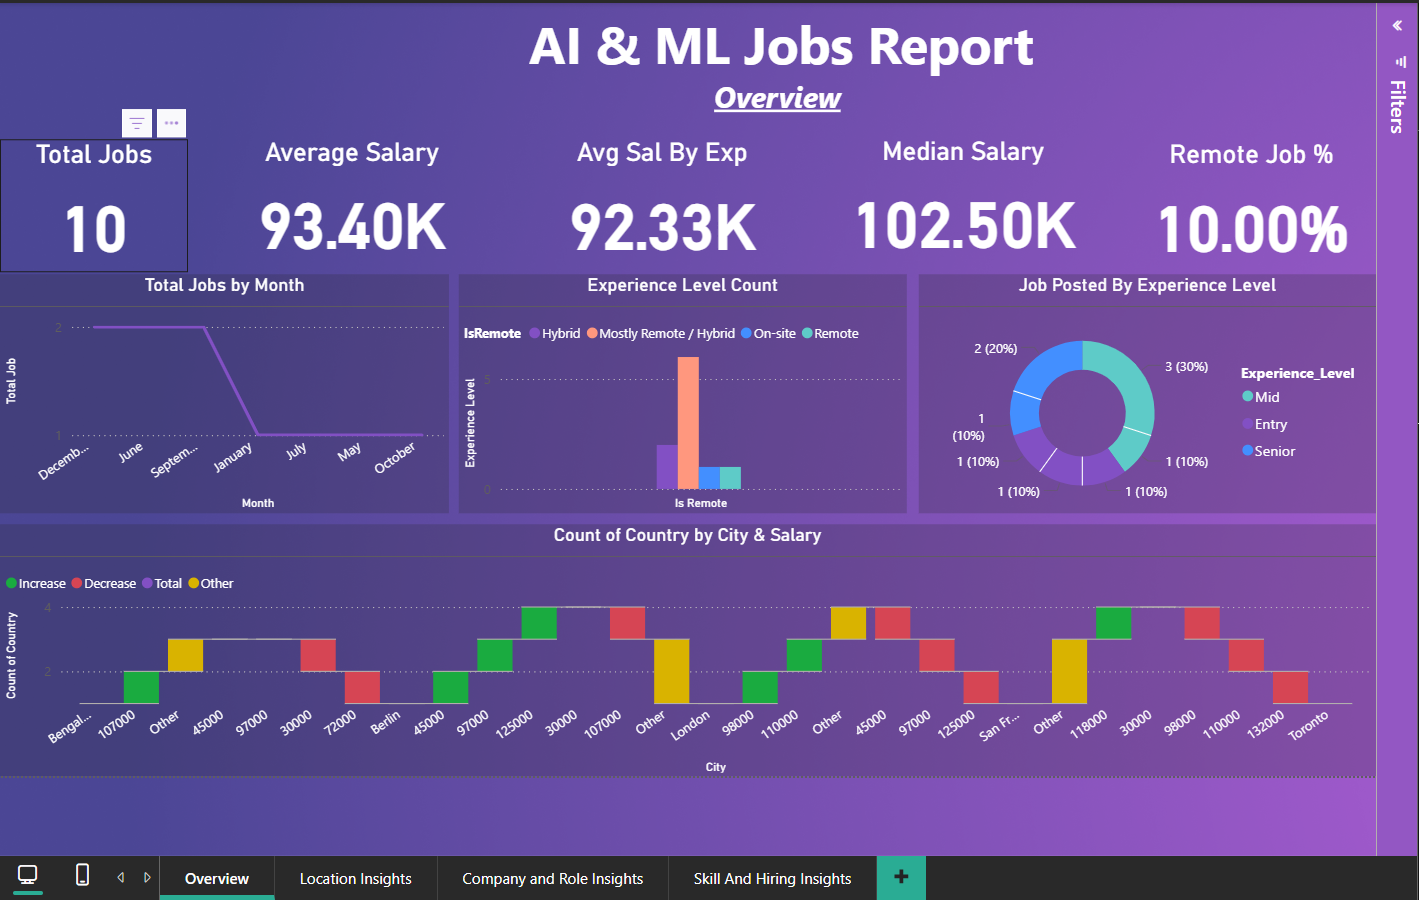

The dashboard page shown, as its layout file describes it:
{"tool":"powerbi","page":{"name":"Overview","canvas":[1280,720],"ordinal":0},"visuals":[{"type":"textbox","box":[487.3,0,480.7,89.1],"z":0},{"type":"card","title":"Total Jobs","fields":{"Values":["Fact_Jobs.TotalJobs"]},"box":[0,126.4,174.7,125.3],"z":1000},{"type":"card","title":"Average Salary","fields":{"Values":["Fact_Jobs.AvgSalary"]},"box":[227.9,124.4,199.1,124.4],"z":2000},{"type":"card","title":"Median Salary","fields":{"Values":["Fact_Jobs.MedianSalary"]},"box":[780.7,123.1,231.9,124.4],"z":3000},{"type":"card","title":"Remote Job %","fields":{"Values":["Fact_Jobs.RemoteJob%"]},"box":[1049.3,127.1,230.6,125.8],"z":4000},{"type":"card","title":"Avg Sal By Exp","fields":{"Values":["Fact_Jobs.AvgSalaryByExperience"]},"box":[504.3,124.4,222.7,125.8],"z":5000},{"type":"lineChart","title":"Total Jobs by Month","fields":{"Category":["Dim_Date.MonthName"],"Y":["Fact_Jobs.TotalJobs"]},"box":[0,252.8,417.9,222.7],"z":6000},{"type":"clusteredColumnChart","title":"Experience Level Count","fields":{"Series":["Fact_Jobs.IsRemote"],"Y":["CountNonNull(Fact_Jobs.Experience_Level)"]},"box":[427,252.8,416.6,222.7],"z":7000},{"type":"donutChart","title":"Job Posted By Experience Level","fields":{"Series":["Fact_Jobs.IsRemote"],"Category":["Fact_Jobs.Experience_Level"],"Y":["Fact_Jobs.TotalJobs"]},"box":[854.1,252.8,425.7,222.7],"z":8000},{"type":"waterfallChart","title":"Count of Country by City & Salary","fields":{"Category":["Dim_Locations.City"],"Breakdown":["Fact_Jobs.Salary_USD"],"Y":["CountNonNull(Dim_Locations.Country)"]},"box":[0,484.7,1279.8,235.8],"z":9000},{"type":"textbox","box":[658.9,64.2,137.5,48.5],"z":10000}]}

Visuals, with their boxes on the page's 1280x720 design canvas (x1, y1, x2, y2). These are canvas units, not pixel positions in the 1419x900 screenshot, which may show the page scaled, cropped or inside an application window:
textbox: <region>487, 0, 968, 89</region>
"Total Jobs" card: <region>0, 126, 175, 252</region>
"Average Salary" card: <region>228, 124, 427, 249</region>
"Median Salary" card: <region>781, 123, 1013, 248</region>
"Remote Job %" card: <region>1049, 127, 1280, 253</region>
"Avg Sal By Exp" card: <region>504, 124, 727, 250</region>
"Total Jobs by Month" lineChart: <region>0, 253, 418, 476</region>
"Experience Level Count" clusteredColumnChart: <region>427, 253, 844, 476</region>
"Job Posted By Experience Level" donutChart: <region>854, 253, 1280, 476</region>
"Count of Country by City & Salary" waterfallChart: <region>0, 485, 1280, 720</region>
textbox: <region>659, 64, 796, 113</region>
